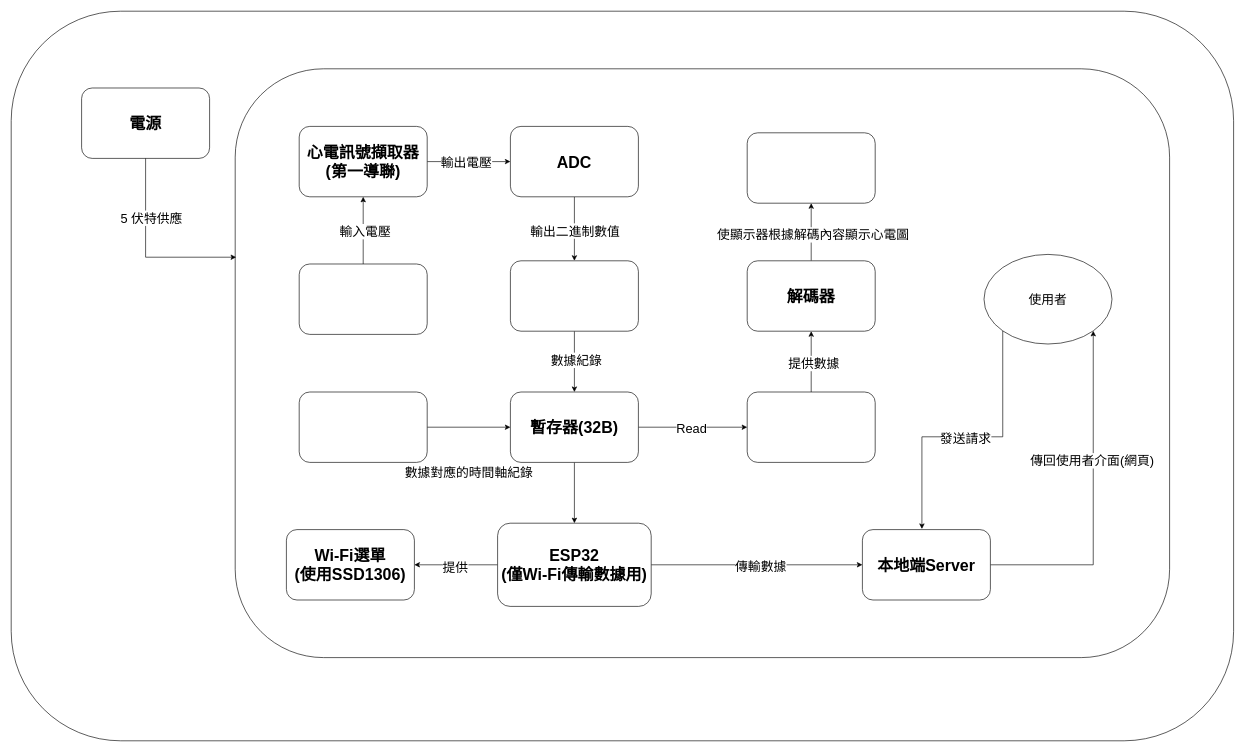
Image size: 1245x752. Some labels were removed from this diagram. The centre of each missing label's shape, as x and y in pixels:
"人體訊號" belongs at point (363, 298).
"取樣器" belongs at point (574, 295).
"數據讀取器" belongs at point (811, 426).
"目前時間軸 計數器" belongs at point (363, 426).
"顯示器" belongs at point (811, 167).
